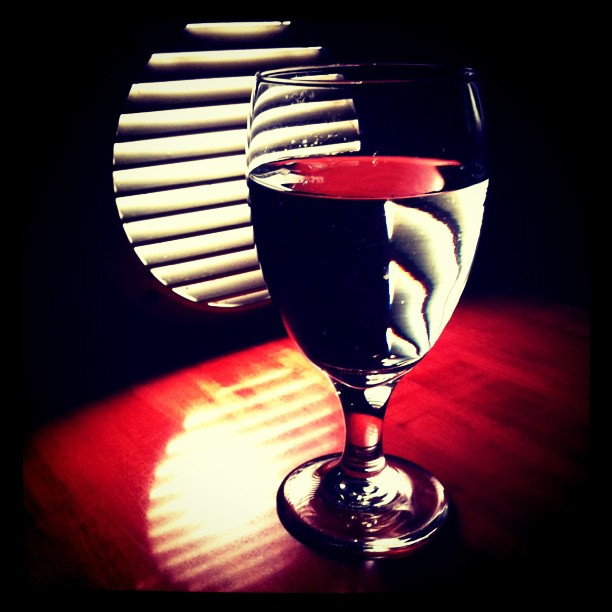glass of water: (250, 75, 481, 569)
